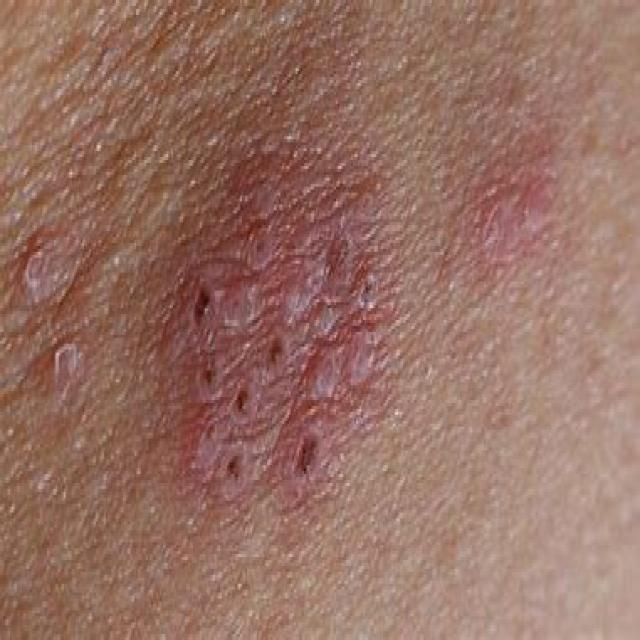Shingles: (159, 185, 391, 492), (436, 165, 564, 293)
